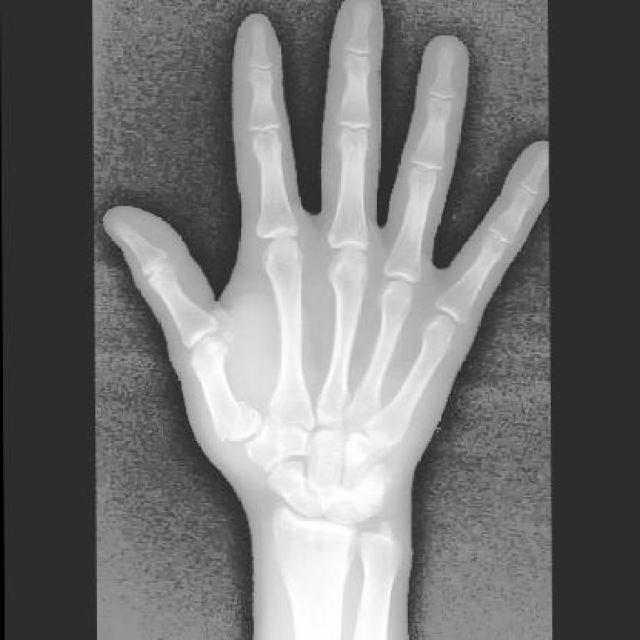Fracture: (218, 397, 258, 443)
